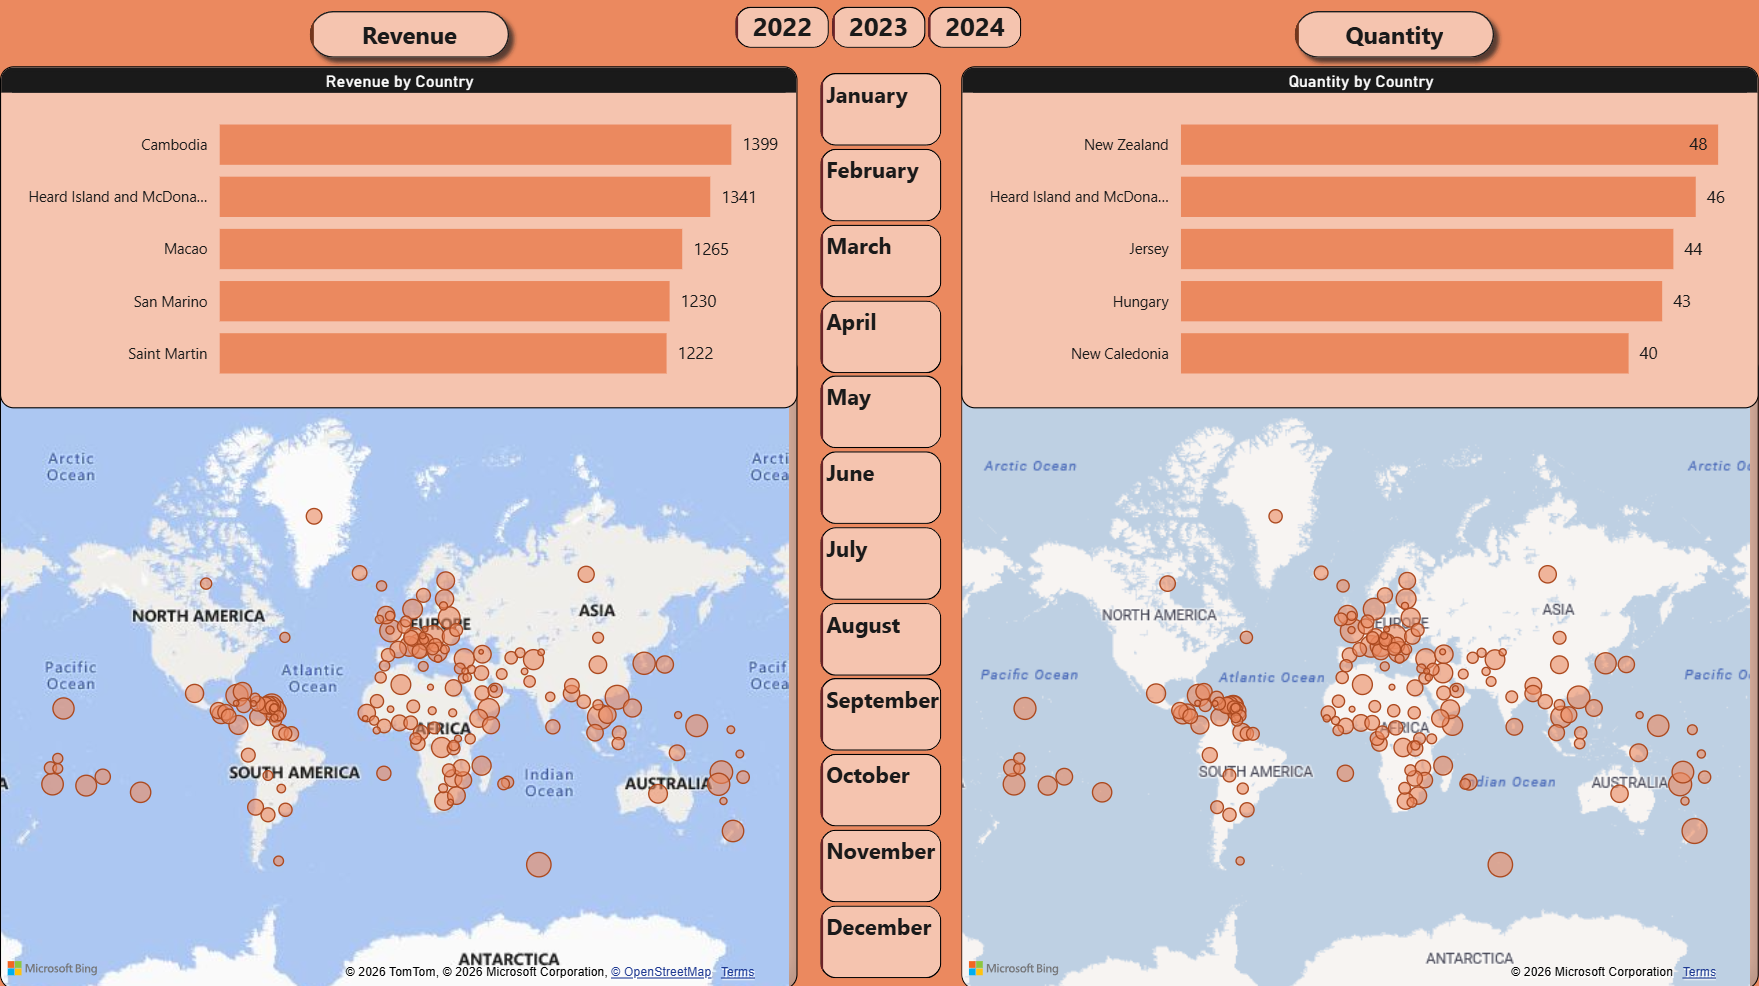

What the dashboard file says about the page in this screenshot:
{"tool":"powerbi","page":{"name":"Map","canvas":[1280,720],"ordinal":2},"visuals":[{"type":"map","title":"Revenue by Country","fields":{"Category":["public book_store.country"],"Size":["Sum(public book_store.total_amount)"]},"box":[0,257.7,580,462.6],"z":0},{"type":"barChart","title":"Revenue by Country","fields":{"Category":["public book_store.country"],"Y":["Sum(public book_store.total_amount)"]},"box":[0,47.9,580,249.1],"z":1000},{"type":"map","title":"Quantity by Country","fields":{"Category":["public book_store.country"],"Size":["Sum(public book_store.quantity)"]},"box":[699.4,257.7,580.4,462.6],"z":2000},{"type":"barChart","title":"Quantity by Country","fields":{"Category":["public book_store.country"],"Y":["Sum(public book_store.quantity)"]},"box":[699.4,47.9,580.4,249.1],"z":3000},{"type":"advancedSlicerVisual","fields":{"Values":["Date.Month Name"]},"box":[591.4,47.9,98.2,672.4],"z":4000},{"type":"advancedSlicerVisual","fields":{"Values":["Date.Year"]},"box":[530.1,0,219.6,40.5],"z":5000},{"type":"pageNavigator","box":[217.2,0,162,50.3],"z":5001},{"type":"pageNavigator","box":[933.7,0,162,50.3],"z":5002}]}

Visuals, with their boxes in screenshot pixels (x1, y1, x2, y2), scaled from the page's 1280x720 canvas onto the 1759x986 screenshot:
"Revenue by Country" map: box(0, 353, 797, 985)
"Revenue by Country" barChart: box(0, 66, 797, 407)
"Quantity by Country" map: box(961, 353, 1758, 985)
"Quantity by Country" barChart: box(961, 66, 1758, 407)
advancedSlicerVisual - Date.Month Name: box(813, 66, 948, 985)
advancedSlicerVisual - Date.Year: box(728, 0, 1030, 55)
pageNavigator: box(298, 0, 521, 69)
pageNavigator: box(1283, 0, 1506, 69)
